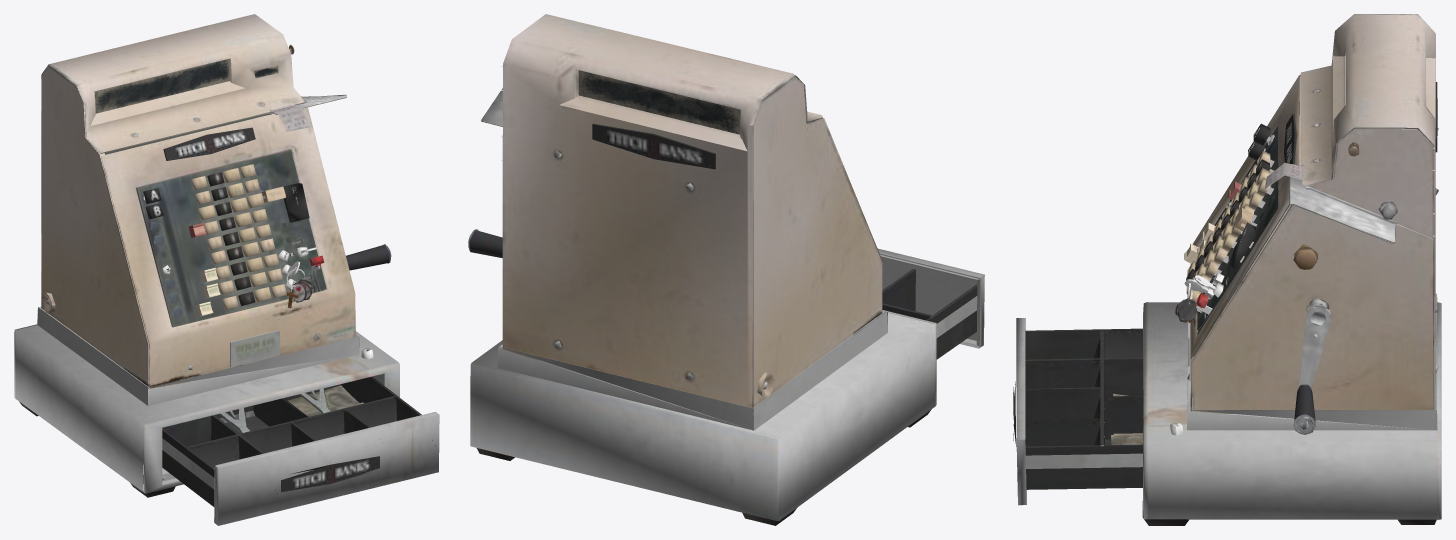
Rendered from cash_register.glb.
The picture shows the model from 3 angles, left to right: view 1: azimuth 30°, elevation 25°; view 2: azimuth 150°, elevation 25°; view 3: azimuth 270°, elevation 25°; orthographic projection. The views are drawn at different scales.
Parts seen in each view (by area): view 1: CashRegister_01.001, CashRegister_01; view 2: CashRegister_01.001, CashRegister_01; view 3: CashRegister_01.001, CashRegister_01.
Part boxes in pixels (x1,y1,x2,y2): CashRegister_01.001: (14,14,399,497); CashRegister_01: (162,376,439,525); CashRegister_01.001: (468,14,936,525); CashRegister_01: (878,248,984,359); CashRegister_01.001: (1142,14,1441,525); CashRegister_01: (1013,318,1142,505).
Size of the model in its own units: 0.599 by 0.6219 by 0.6229.
Materials: 2 (2 with a texture image).
